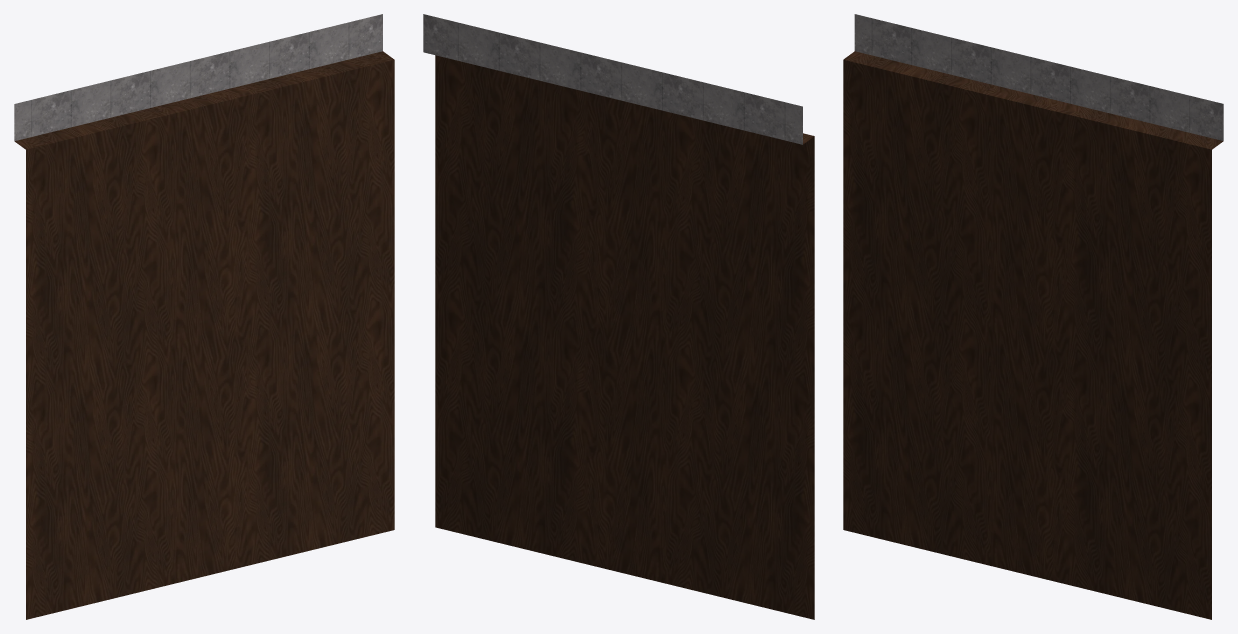
File: stage-wall.glb
3 views of the same model, side by side, from view 1: azimuth 30°, elevation 25°; view 2: azimuth 150°, elevation 25°; view 3: azimuth 330°, elevation 25° (orthographic). The views are drawn at different scales.
Visible parts, largest first — view 1: Stage_Wall; view 2: Stage_Wall; view 3: Stage_Wall.
Part boxes in pixels (bbox=[...]): Stage_Wall: bbox=[14, 14, 394, 619]; Stage_Wall: bbox=[423, 14, 814, 619]; Stage_Wall: bbox=[843, 14, 1223, 619].
Size of the model in its own units: 4.6 by 6.05 by 0.2517.
Materials: 2 (2 with a texture image).
